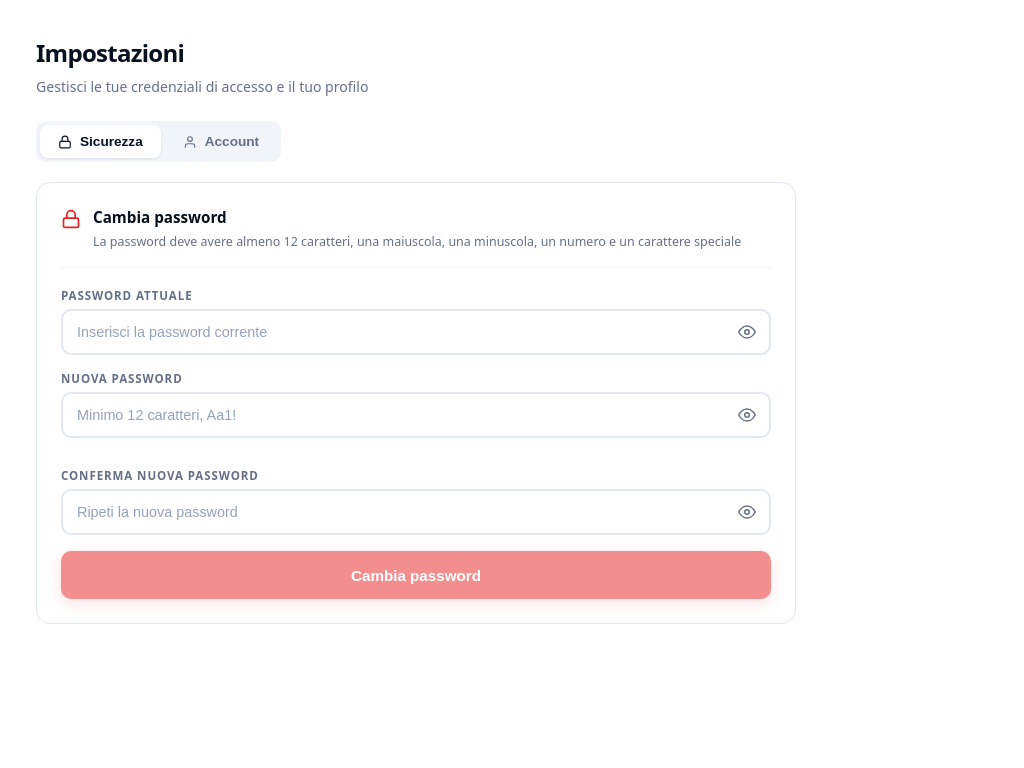
SettingsPage, "Il mio account" tier section (Phase 5) › unlocked user: shows tier="Sbloccato" and NO redeem form
Click the tab "Account": (221, 142) [165, 125, 277, 158]
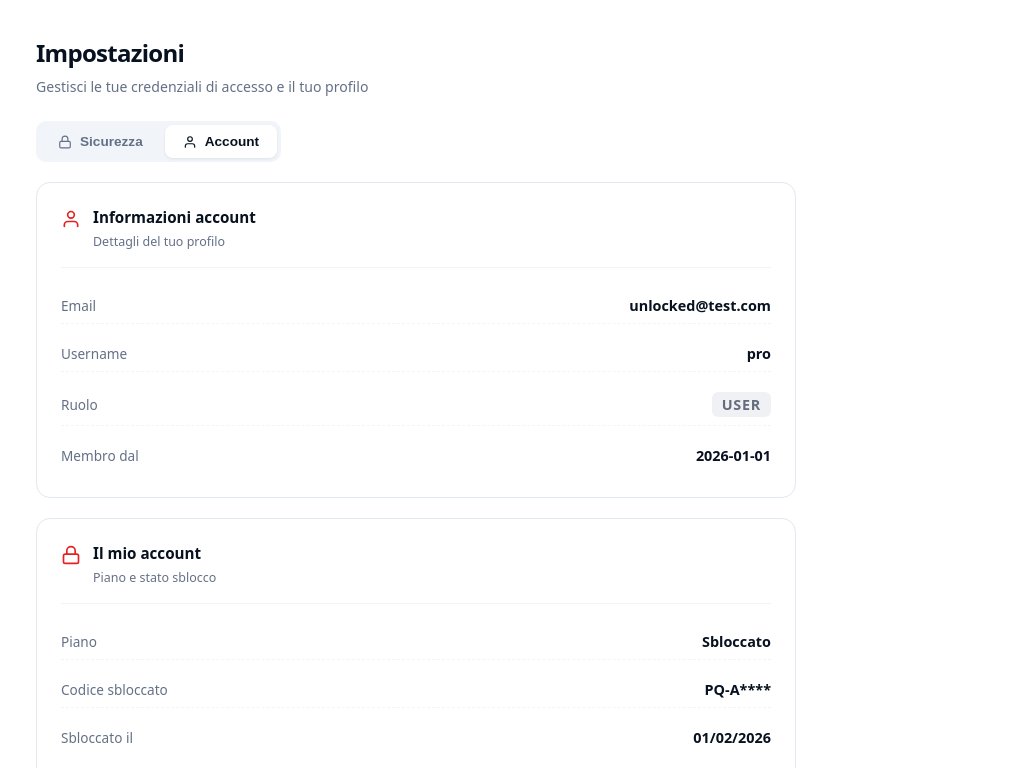
Expected: the text with test id "settings-tier-value" reads "Sbloccato", [702, 632, 771, 651]
Expected: the text with test id "settings-unlock-code" reads "PQ-A****", [705, 680, 771, 699]
